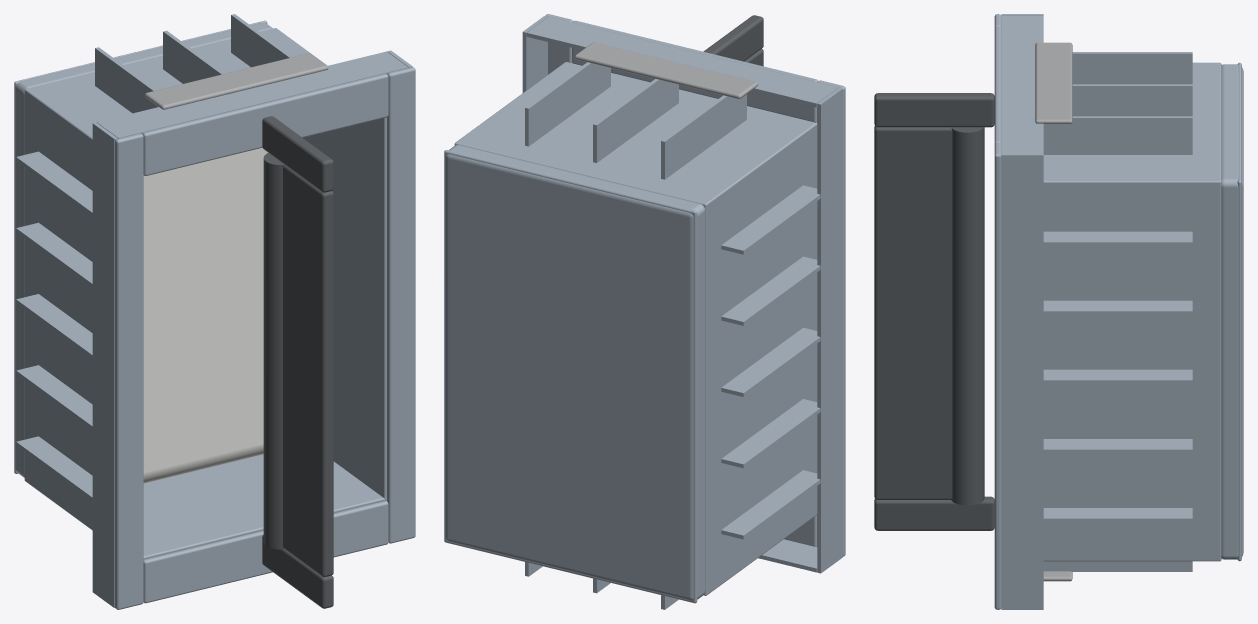
3 views of the same model, side by side, from view 1: azimuth 30°, elevation 25°; view 2: azimuth 150°, elevation 25°; view 3: azimuth 270°, elevation 25° (orthographic). The views are drawn at different scales.
Visible parts, largest first — view 1: /World/Totes/A09/Visual/TotePolypropylene, /World/Totes/A09/Goods0/Visual/PaperWhite, /World/Totes/A09/Visual/ToteRail, /World/Totes/A09/Visual/PlasticGrey; view 2: /World/Totes/A09/Visual/TotePolypropylene, /World/Totes/A09/Visual/PlasticGrey, /World/Totes/A09/Visual/ToteRail; view 3: /World/Totes/A09/Visual/TotePolypropylene, /World/Totes/A09/Visual/ToteRail, /World/Totes/A09/Visual/PlasticGrey.
Boxes of the visible parts, x1,y1,x2,y2 form: /World/Totes/A09/Visual/TotePolypropylene: (14, 14, 415, 609); /World/Totes/A09/Goods0/Visual/PaperWhite: (143, 147, 268, 483); /World/Totes/A09/Visual/ToteRail: (262, 116, 333, 608); /World/Totes/A09/Visual/PlasticGrey: (144, 53, 328, 109); /World/Totes/A09/Visual/TotePolypropylene: (444, 14, 845, 609); /World/Totes/A09/Visual/PlasticGrey: (575, 42, 758, 99); /World/Totes/A09/Visual/ToteRail: (703, 15, 763, 66); /World/Totes/A09/Visual/TotePolypropylene: (994, 14, 1243, 609); /World/Totes/A09/Visual/ToteRail: (874, 93, 994, 530); /World/Totes/A09/Visual/PlasticGrey: (1035, 42, 1072, 581).
Size of the model in its own units: 0.198 by 0.301 by 0.218.
